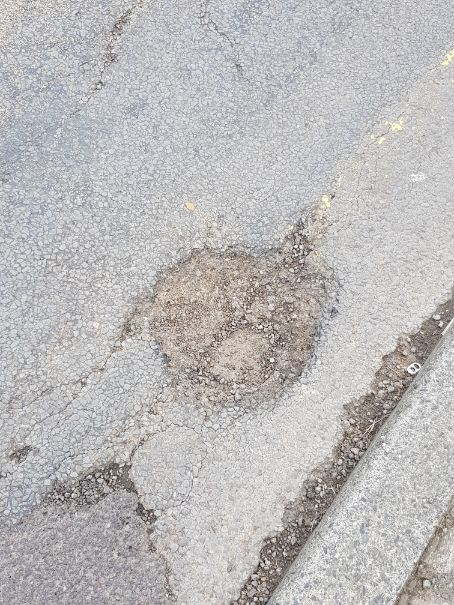pothole: (112, 206, 347, 413)
